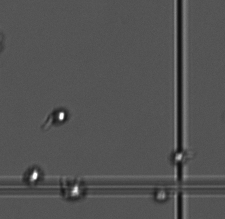Living Cell: (65, 180, 85, 199), (25, 166, 42, 184), (51, 108, 68, 125)
